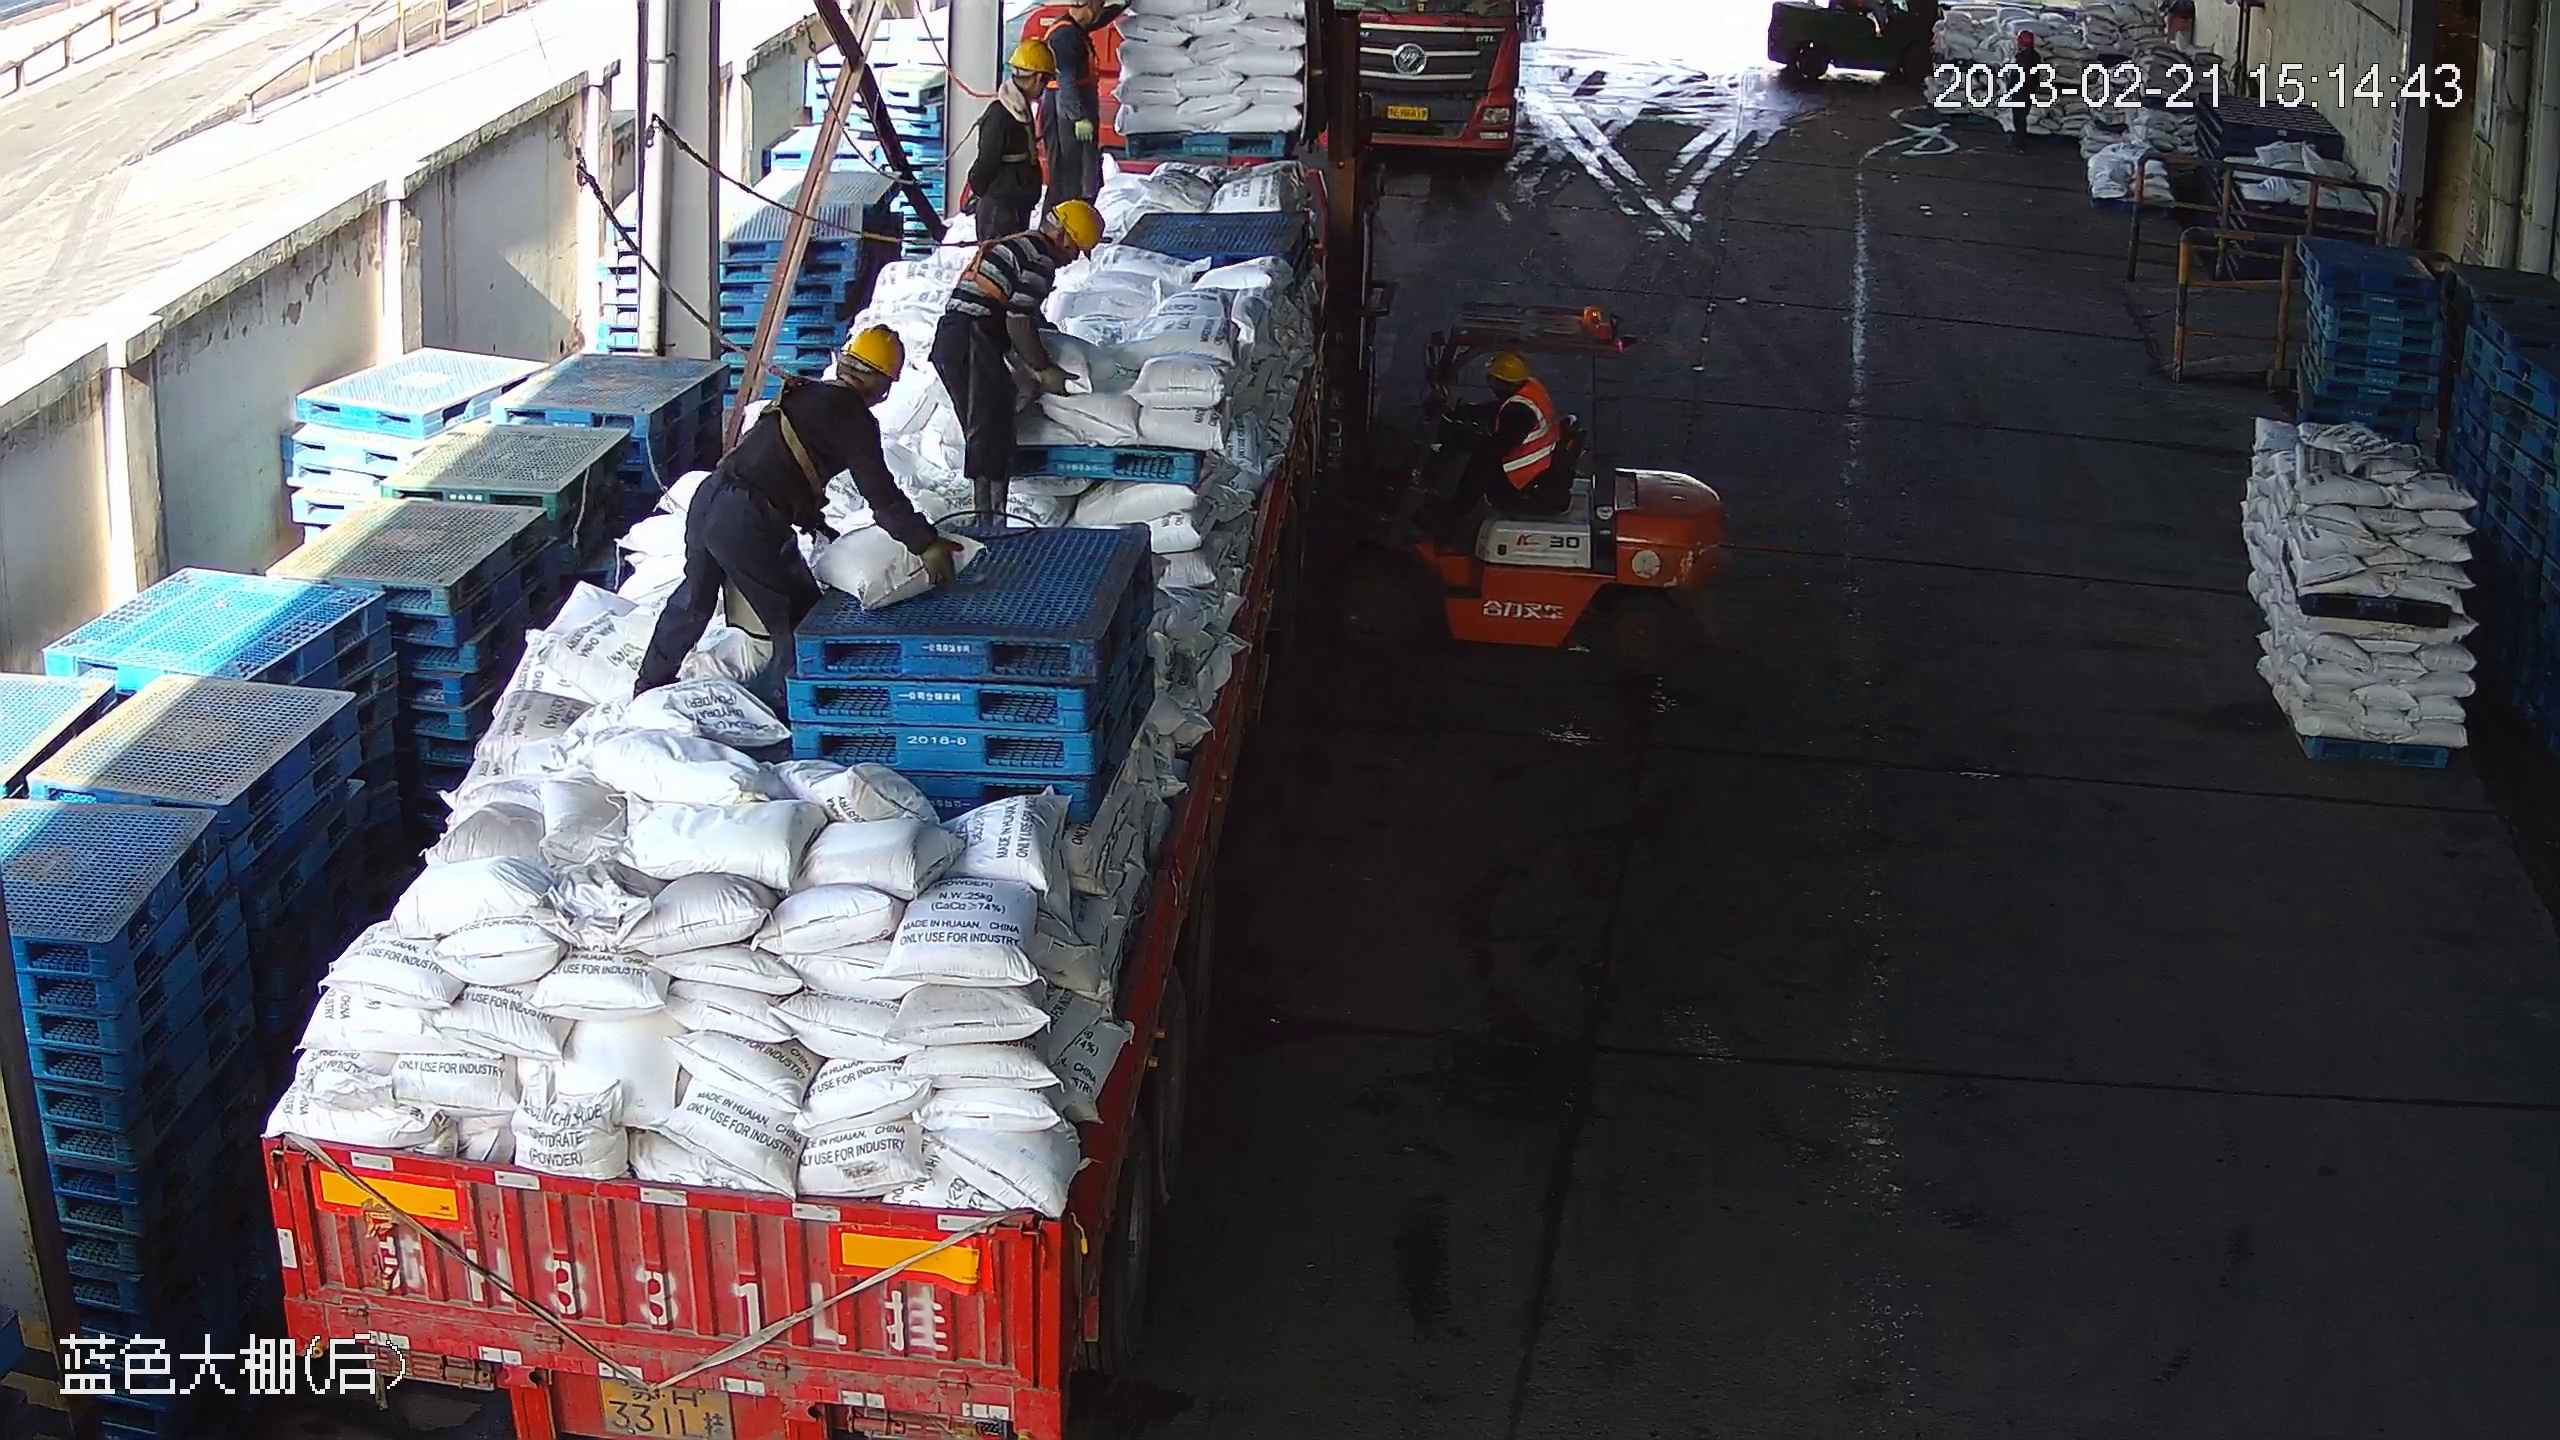belt: (756, 371, 855, 507), (962, 231, 1055, 310), (1045, 19, 1100, 88), (1001, 126, 1040, 168)
head: (777, 322, 904, 425), (1008, 198, 1105, 280), (980, 37, 1058, 135), (1485, 349, 1547, 421)
helmet: (1051, 197, 1105, 261), (847, 323, 904, 380), (1006, 37, 1057, 73), (1484, 350, 1529, 382)
people: (633, 322, 965, 703), (927, 199, 1105, 533), (958, 39, 1058, 241), (1044, 1, 1134, 227), (1445, 349, 1560, 521)
truck: (258, 1, 1371, 1440), (1332, 1, 1519, 151)
